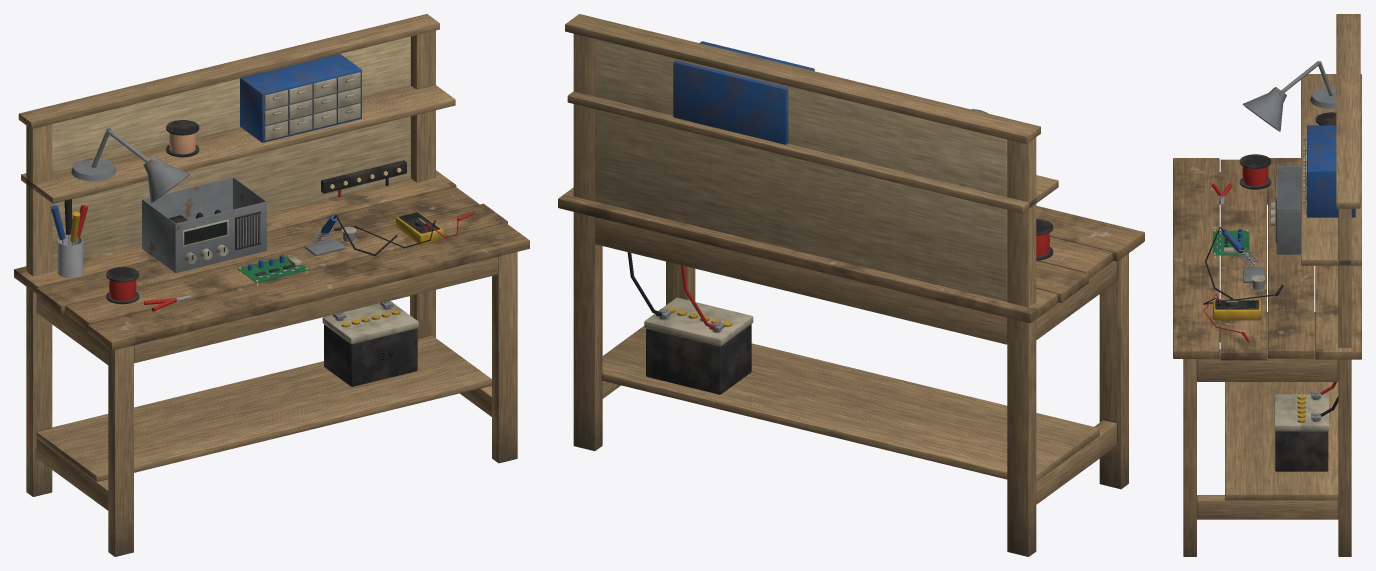
The model's file is bancada_eletronica.glb.
3 views of the same model, side by side, from view 1: azimuth 30°, elevation 25°; view 2: azimuth 150°, elevation 25°; view 3: azimuth 270°, elevation 25° (orthographic). The views are drawn at different scales.
Visible parts, largest first — view 1: estrutura, tampo, ferramentas, bateria; view 2: estrutura, tampo, bateria, ferramentas; view 3: estrutura, tampo, ferramentas, bateria.
Part boxes in pixels (x1,y1,x2,y2): estrutura: [18, 14, 517, 556]; tampo: [14, 170, 529, 350]; ferramentas: [50, 54, 480, 311]; bateria: [322, 178, 418, 386]; estrutura: [565, 14, 1128, 556]; tampo: [558, 187, 1144, 323]; bateria: [627, 252, 753, 394]; ferramentas: [673, 41, 1053, 260]; estrutura: [1183, 14, 1361, 556]; tampo: [1173, 158, 1361, 360]; ferramentas: [1203, 61, 1355, 345]; bateria: [1274, 382, 1338, 471].
Bounding box in the file's own units: 1.52 × 1.29 × 0.621.
Materials: 2 (2 with a texture image).
